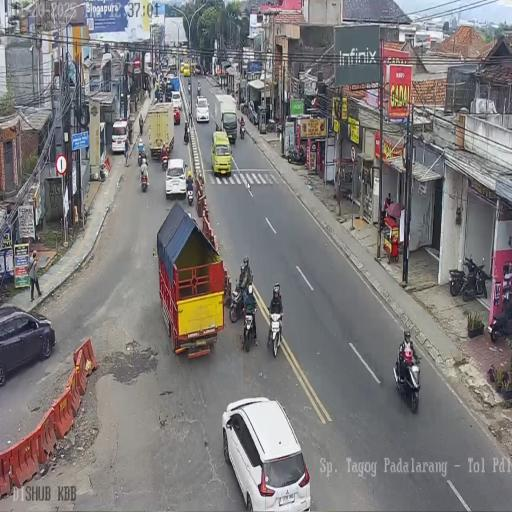3: (157, 203, 227, 357), (145, 102, 174, 161), (212, 94, 237, 142)
car: (221, 396, 311, 510), (0, 306, 55, 386), (165, 157, 188, 200), (111, 119, 129, 154), (195, 95, 210, 123), (247, 100, 259, 125), (171, 91, 181, 111), (165, 84, 173, 102)
truck: (394, 338, 422, 413), (460, 255, 490, 302), (490, 298, 512, 342), (242, 305, 259, 352), (267, 311, 284, 358), (228, 282, 246, 323), (449, 267, 466, 296), (286, 144, 306, 166), (140, 165, 149, 192), (186, 180, 194, 206), (137, 146, 144, 167), (240, 99, 249, 115), (276, 119, 283, 138), (162, 151, 168, 171), (239, 122, 245, 139), (184, 128, 189, 144), (157, 89, 163, 102), (187, 82, 191, 94), (197, 84, 201, 96)
